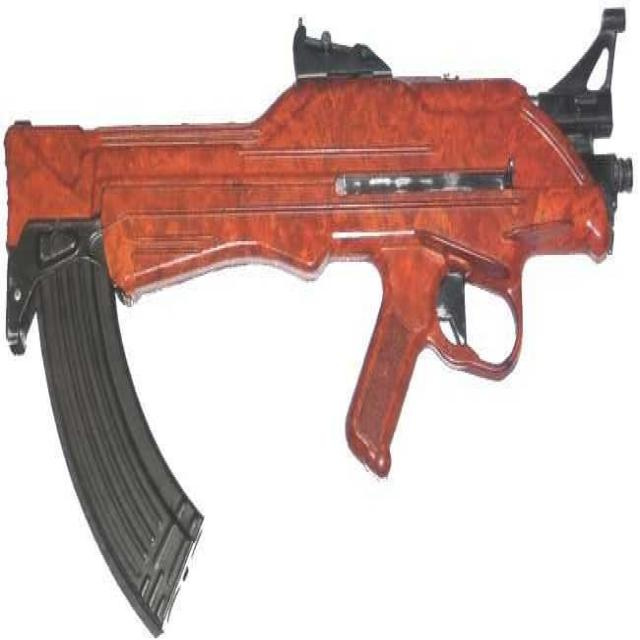heavyweapon: (1, 1, 632, 596)
